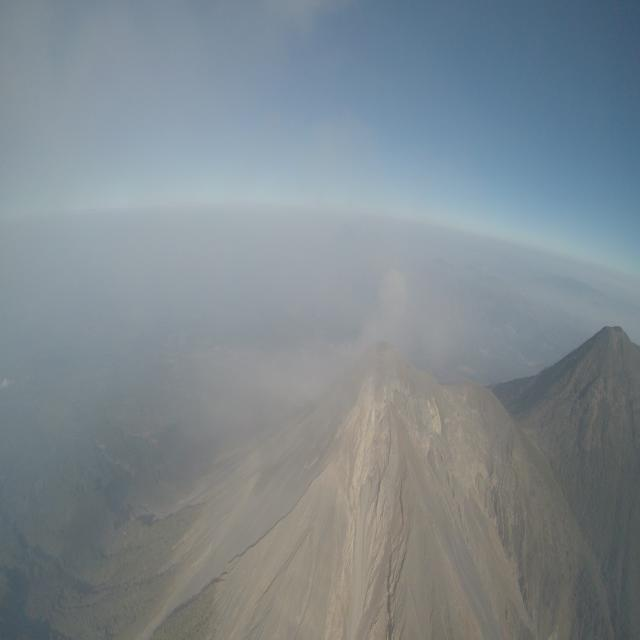Summit: (308, 338, 444, 454)
